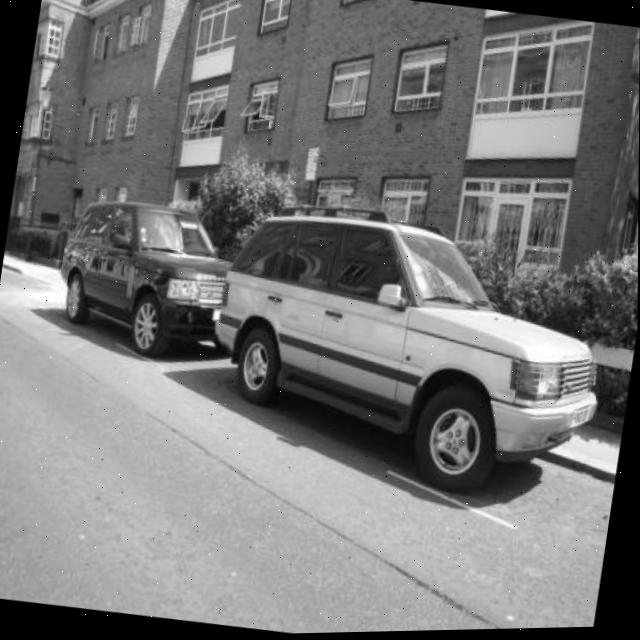car: (195, 188, 622, 517), (48, 188, 244, 368)
